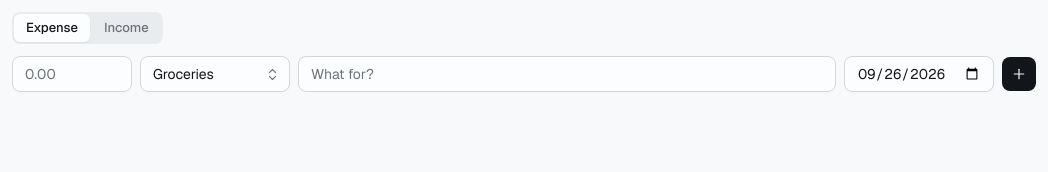
EntryForm › switching to income swaps the categories and resets to Salary
Click the tab "Income": (126, 28) [92,14,161,42]
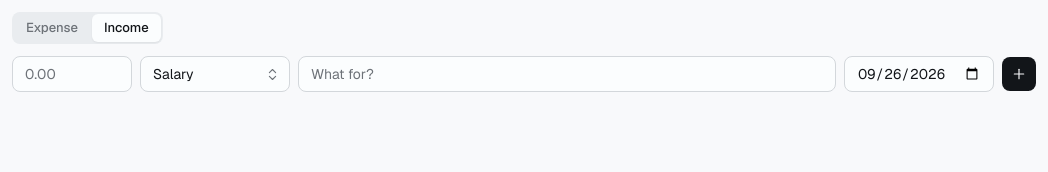
Check: the option "Groceries" is not shown
Check: the dropdown named "Category" shows "Salary", box [140,56,290,92]
